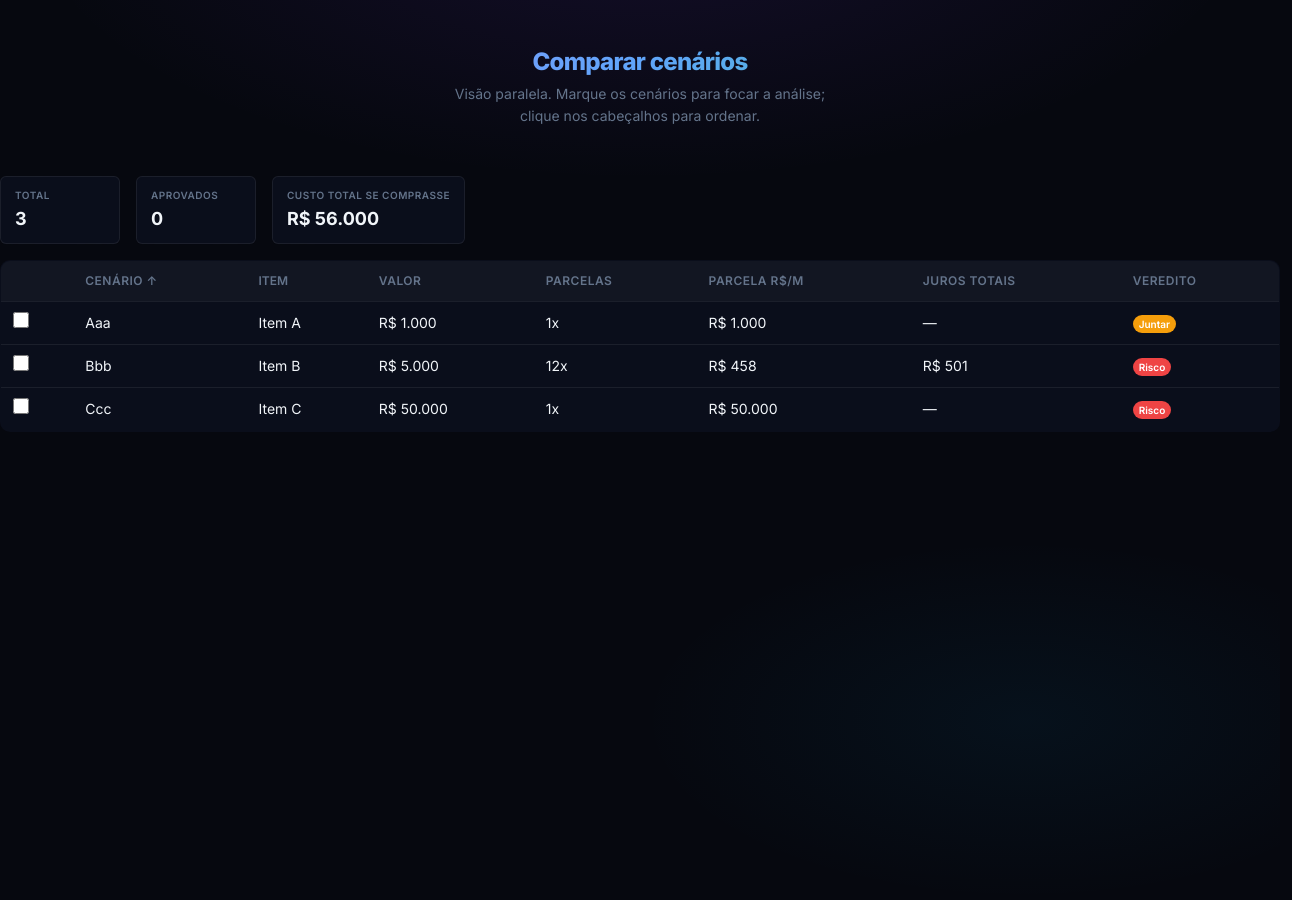
CompararPage › alterna seleção via checkbox e atualiza KPI label
Step 1. Click the checkbox named "Selecionar Aaa" → (21, 320), box [13,312,29,328]
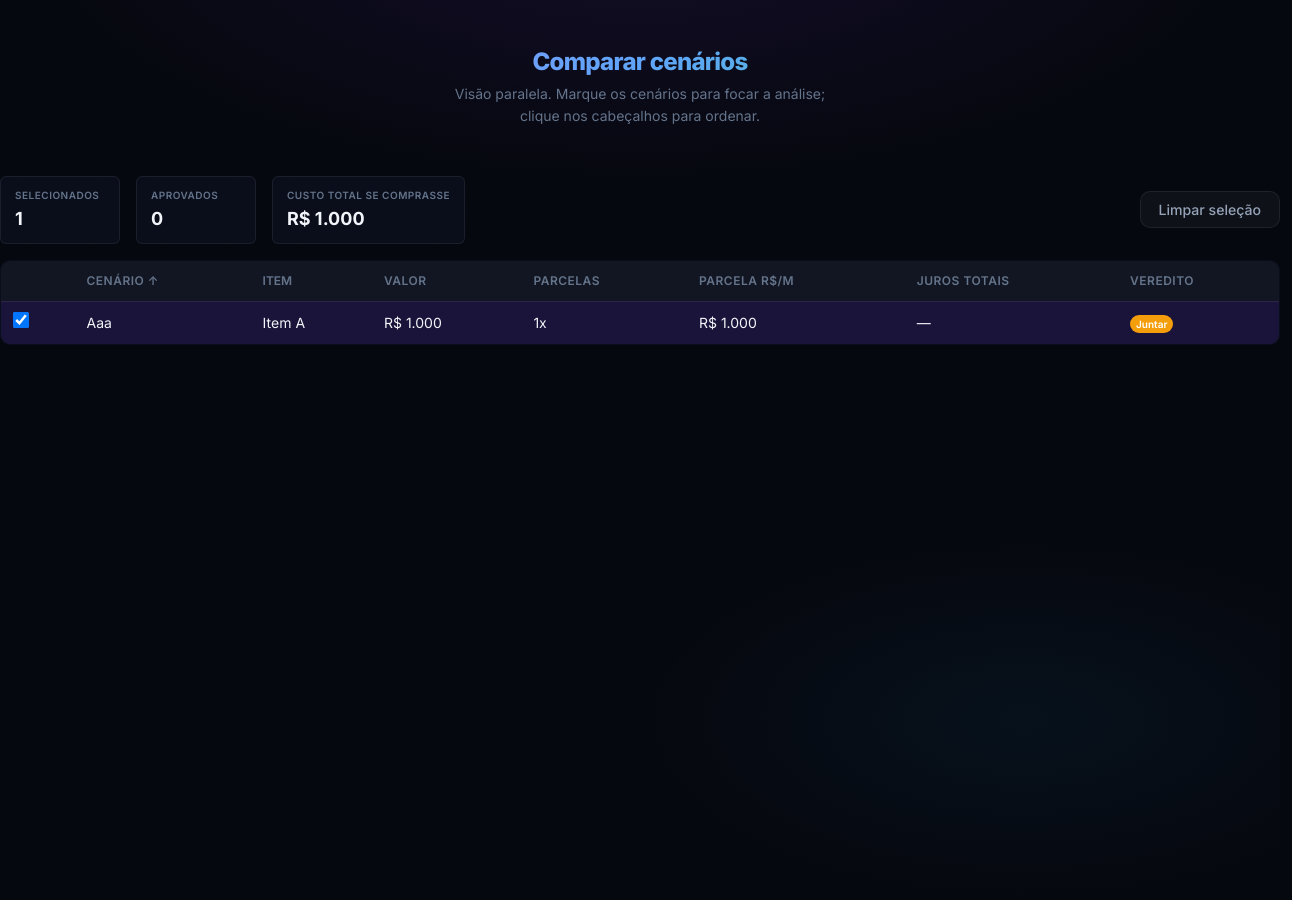
Expected: the text "Selecionados" is shown, [15,187,105,203]
